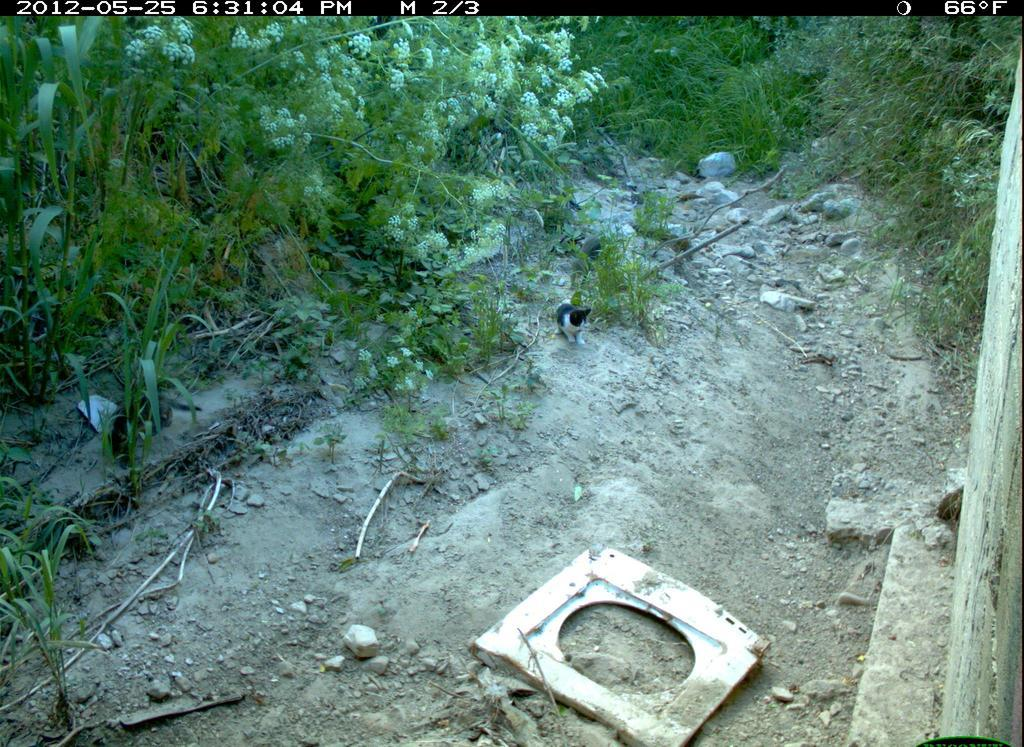cat: (553, 294, 601, 356)
